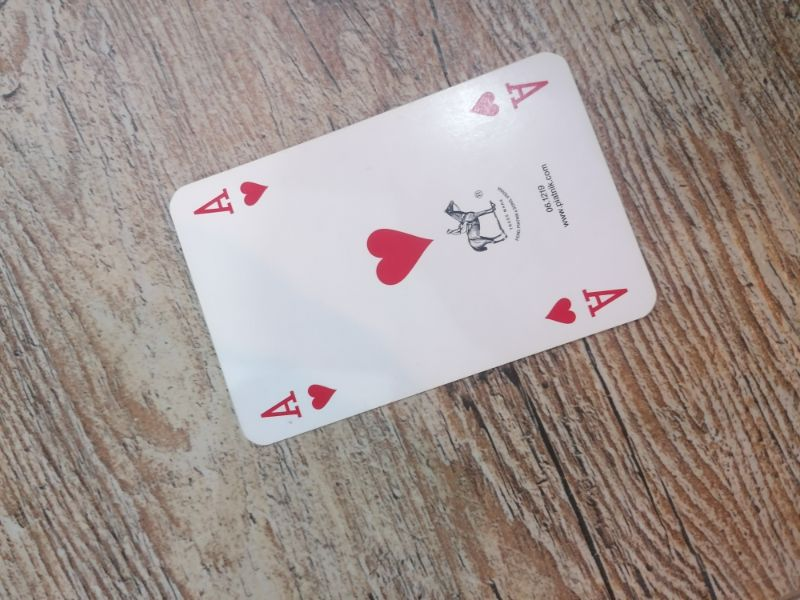Ah: (462, 69, 554, 123), (543, 282, 632, 329), (189, 180, 272, 223), (257, 383, 339, 422)
